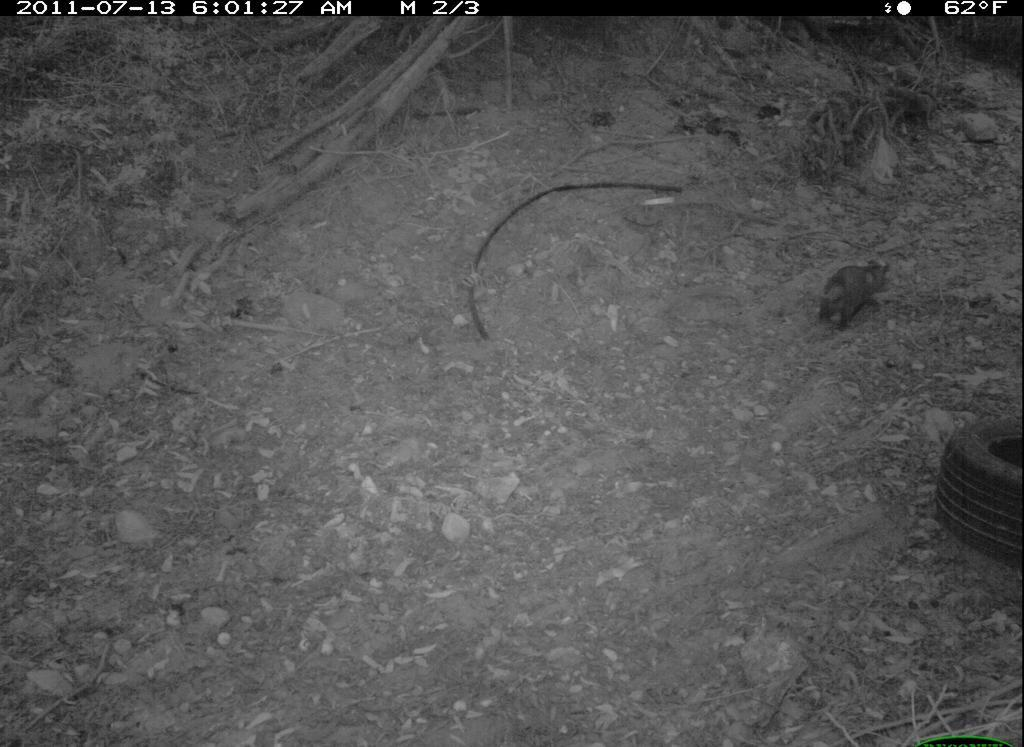opossum: (795, 245, 898, 341)
